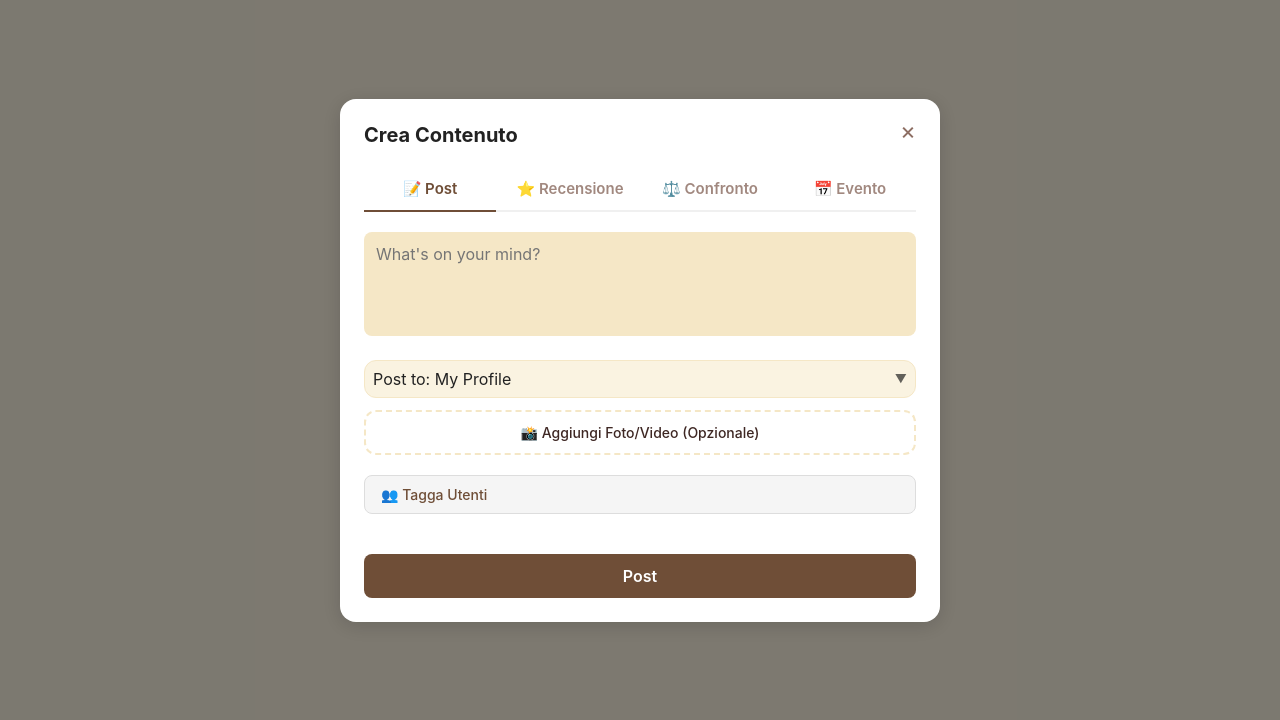
Test: CreatePostModal › enables comparison mode
Click the button "⚖️ Confronto". click: (710, 189)
box: [644, 166, 776, 212]
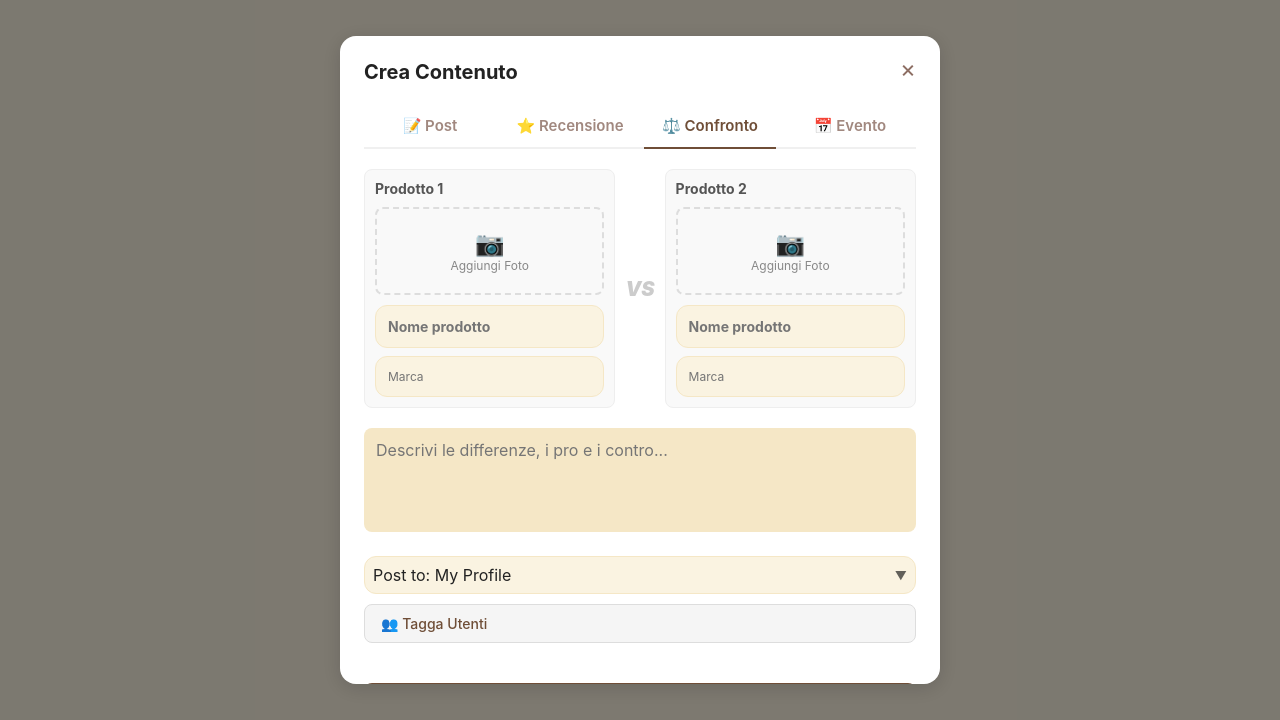
Result: the heading "Prodotto 1" is shown at [375, 180, 443, 197]
Result: the heading "Prodotto 2" is shown at [676, 180, 747, 197]
Result: the text box with placeholder "Descrivi le differenze, i pro e i contro..." is shown at [364, 428, 916, 532]
